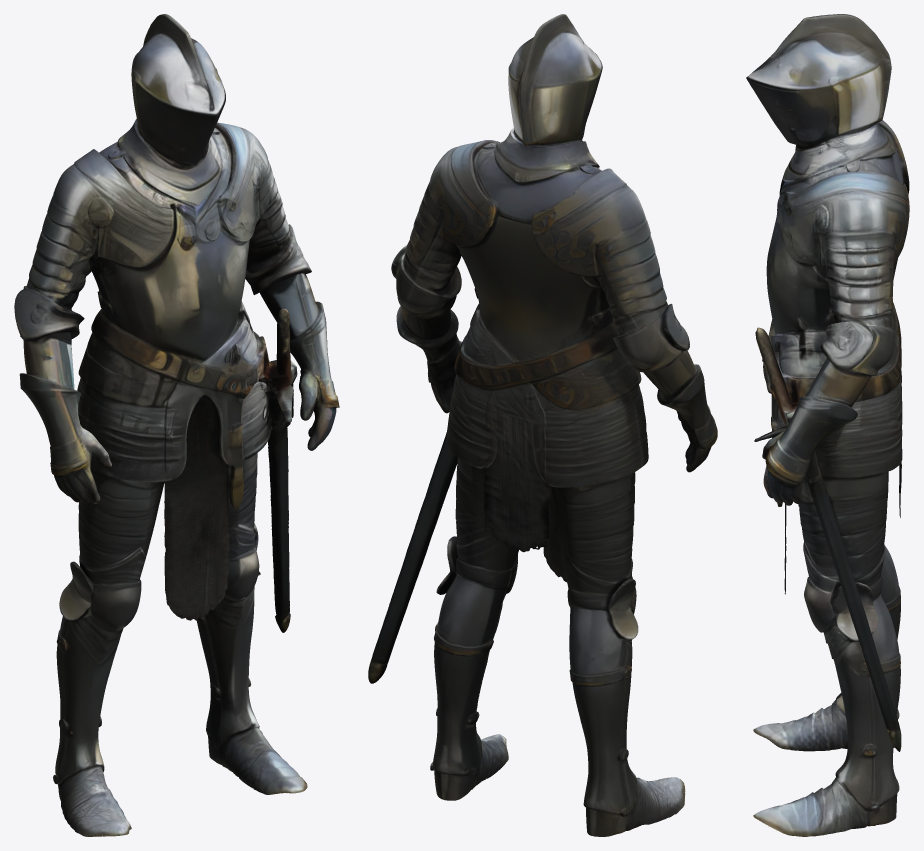
Rendered from TC004_Hyper 3D Rodin 2.glb.
3 views of the same model, side by side, from view 1: azimuth 30°, elevation 25°; view 2: azimuth 150°, elevation 25°; view 3: azimuth 270°, elevation 25° (orthographic).
Visible parts, largest first — view 1: model; view 2: model; view 3: model.
Boxes of the visible parts, bbox=[...] form: model: bbox=[14, 14, 339, 836]; model: bbox=[368, 14, 717, 836]; model: bbox=[746, 14, 909, 836].
Bounding box in the file's own units: 0.734 × 1.84 × 0.3522.
Materials: 1 (1 with a texture image).
